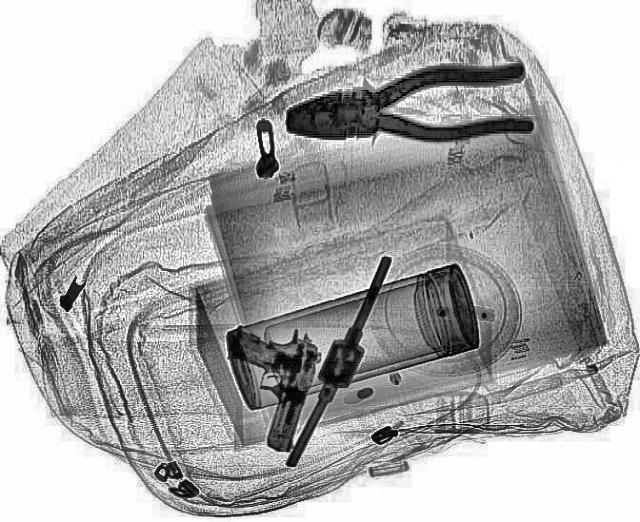Gun: (194, 315, 328, 453)
Pliers: (276, 56, 536, 160)
